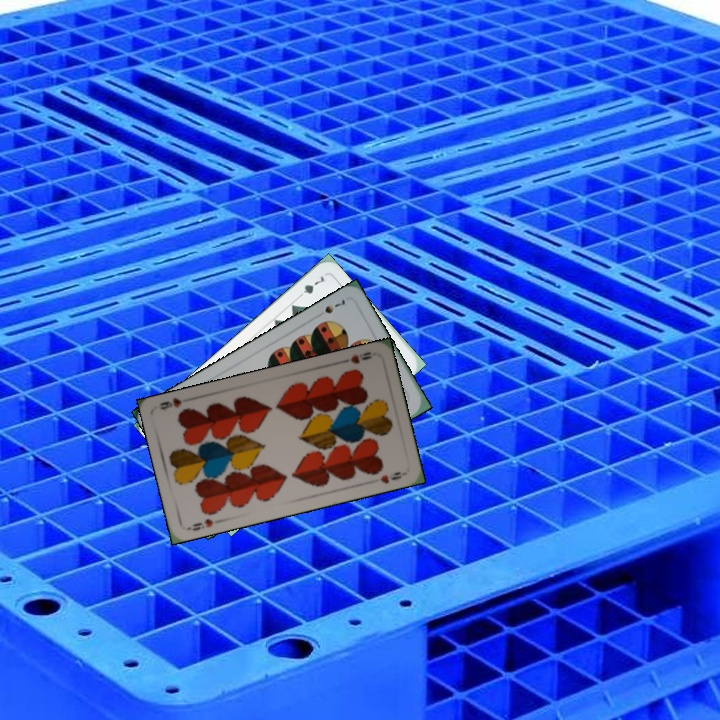G7: (293, 272, 327, 301)
H9: (337, 347, 374, 366), (189, 514, 216, 534)
S7: (320, 294, 348, 316)
